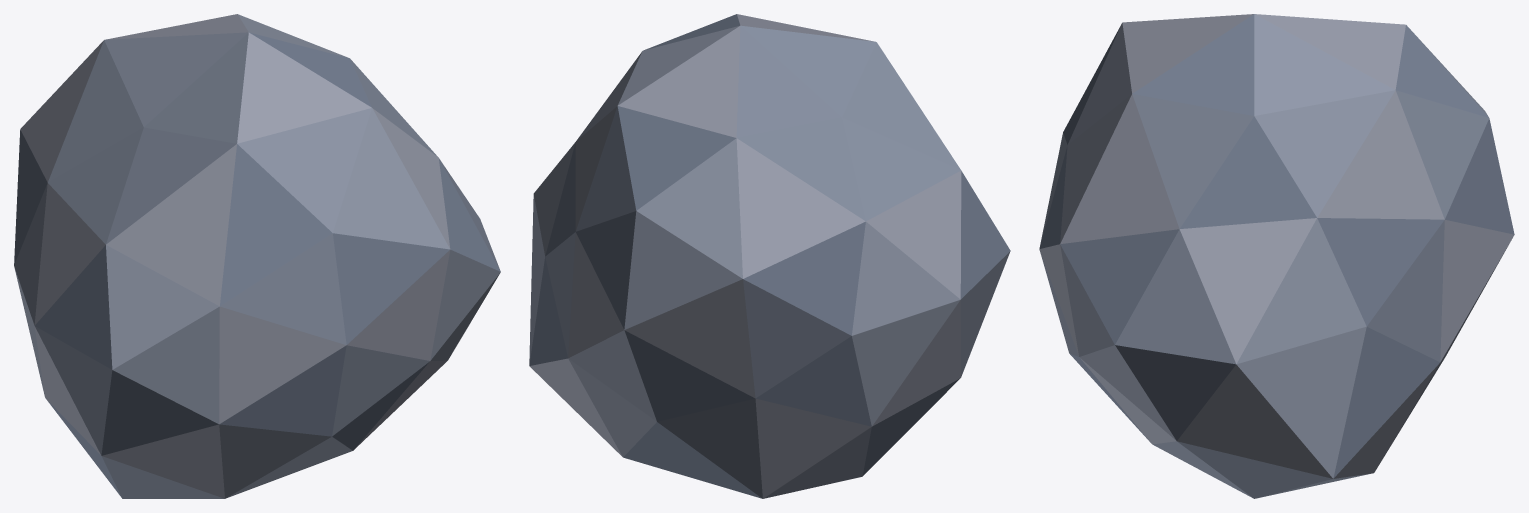
The model's file is asteroid_1.gltf.
3 renders of one model, left to right at view 1: azimuth 30°, elevation 25°; view 2: azimuth 150°, elevation 25°; view 3: azimuth 270°, elevation 25°, orthographic. The views are drawn at different scales.
Visible parts, largest first — view 1: asteroid_1; view 2: asteroid_1; view 3: asteroid_1.
Boxes of the visible parts, x1,y1,x2,y2 form: asteroid_1: (14,14,500,498); asteroid_1: (529,14,1010,498); asteroid_1: (1039,14,1514,498).
Bounding box in the file's own units: 2.13 × 2 × 1.93.
